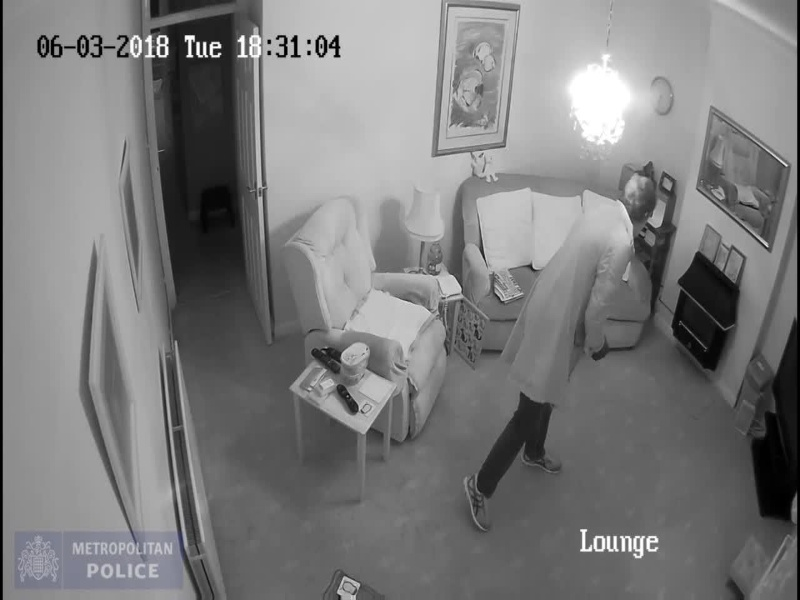person: (451, 164, 662, 544)
